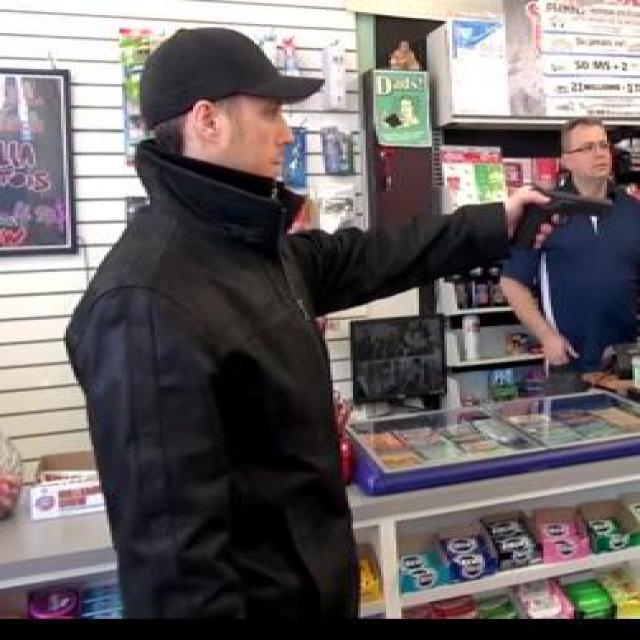Gun: (505, 182, 612, 251)
